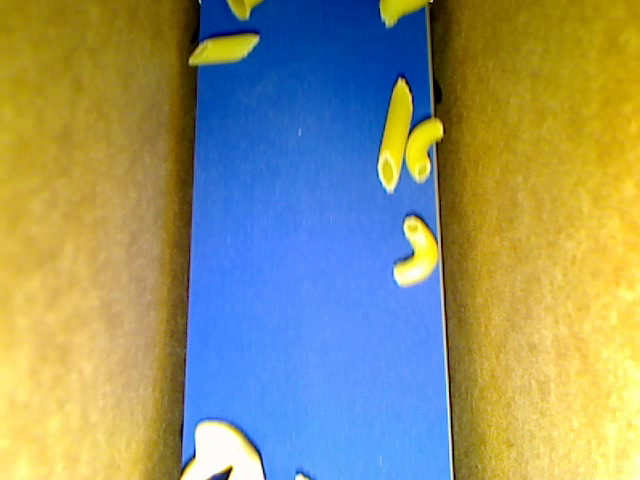elbow: (392, 215, 438, 288), (406, 117, 445, 183)
penne: (377, 76, 413, 197), (186, 33, 260, 65)
tortellini: (180, 419, 265, 479)
